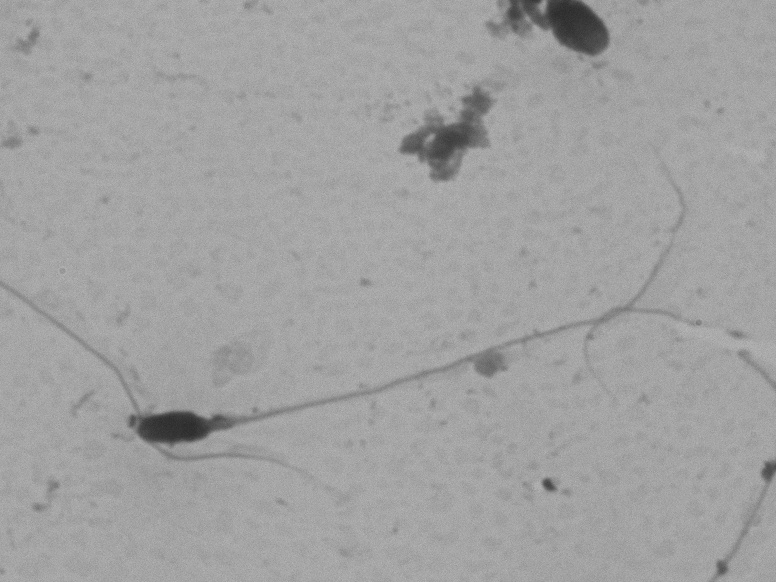Abnormal: (123, 143, 692, 466)
